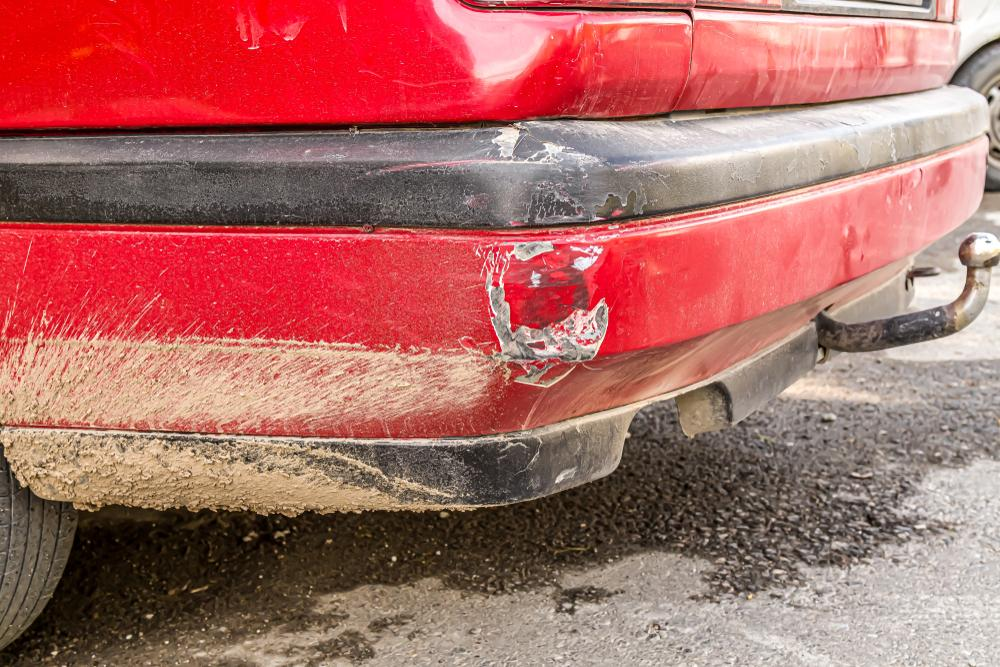scratch: (482, 234, 608, 401)
